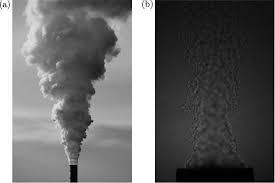smoke: (21, 1, 129, 161), (182, 36, 249, 165)
